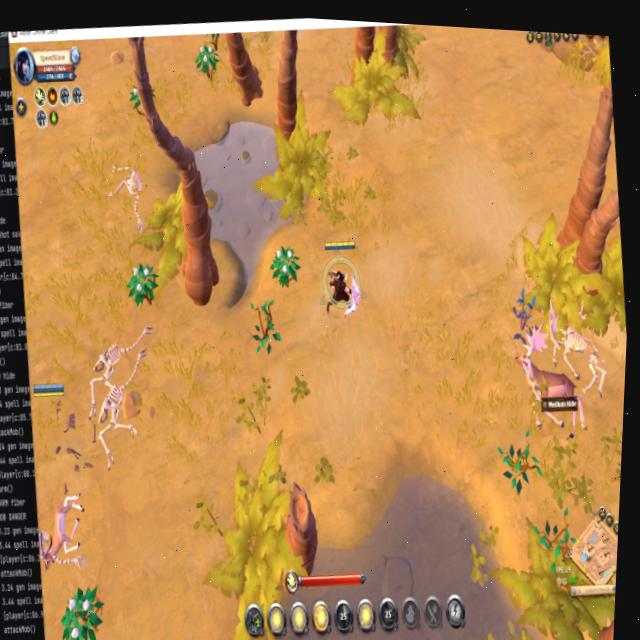hide: (57, 579, 106, 640), (125, 258, 160, 309), (268, 240, 301, 290), (193, 40, 220, 79)
mob: (508, 329, 593, 446), (35, 485, 91, 574)
red: (316, 234, 364, 320), (30, 378, 64, 399)
